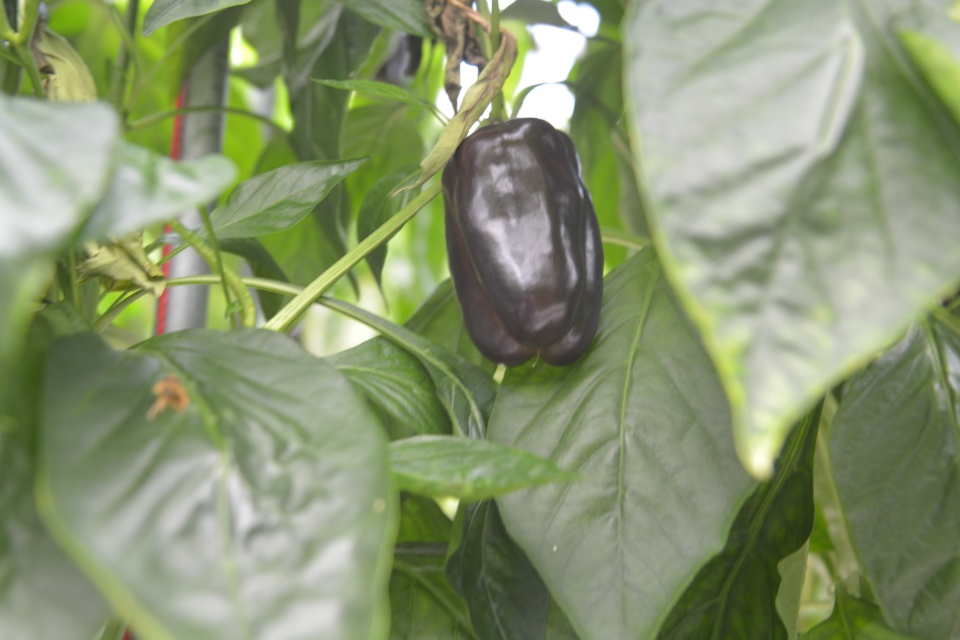fruit: (436, 111, 608, 372)
